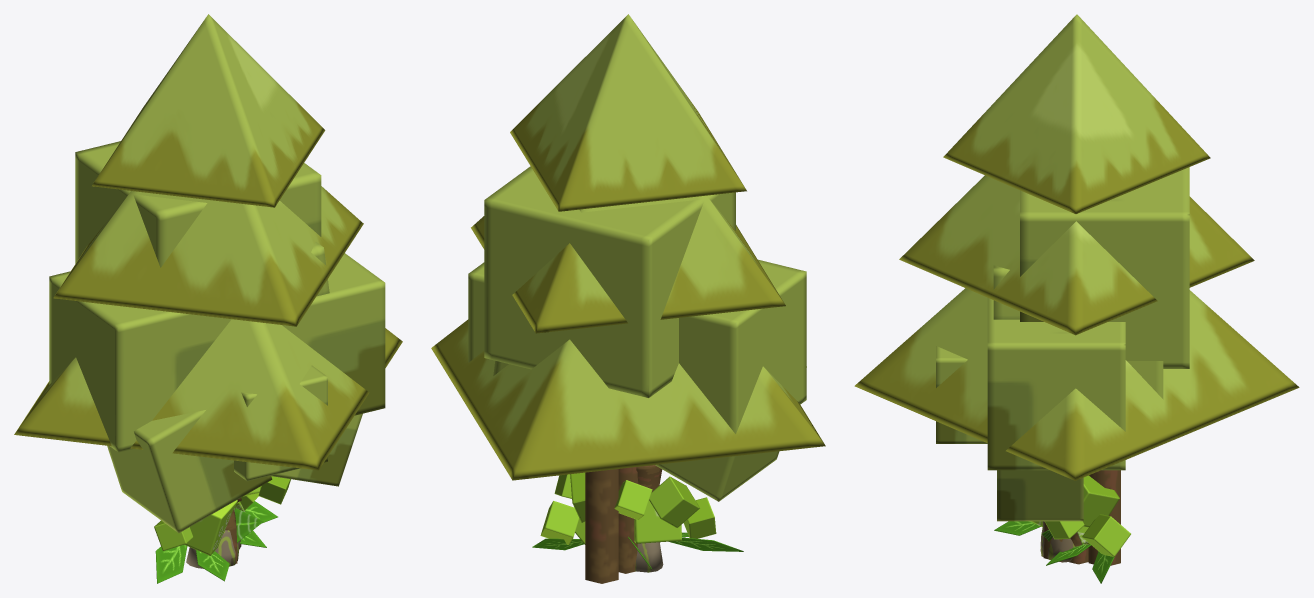
The model's file is wood_square_1.fbx.
The picture shows the model from 3 angles, left to right: view 1: azimuth 30°, elevation 25°; view 2: azimuth 150°, elevation 25°; view 3: azimuth 270°, elevation 25°; orthographic projection. The views are drawn at different scales.
Parts seen in each view (by area): view 1: polySurface7, polySurface2, polySurface1, kusa, rock; view 2: polySurface7, polySurface2, kusa, polySurface1, rock, wood_2; view 3: polySurface7, polySurface2, polySurface1, kusa.
Part boxes in pixels (x1,y1,x2,y2): polySurface7: (14, 14, 402, 470); polySurface2: (49, 141, 385, 481); polySurface1: (107, 242, 362, 533); kusa: (154, 476, 290, 583); rock: (186, 530, 241, 568); polySurface7: (431, 14, 825, 573); polySurface2: (468, 166, 806, 583); kusa: (532, 472, 743, 569); polySurface1: (493, 361, 806, 501); rock: (635, 542, 663, 572); wood_2: (636, 465, 662, 491); polySurface7: (854, 14, 1299, 480); polySurface2: (936, 167, 1189, 565); polySurface1: (993, 265, 1163, 564); kusa: (994, 475, 1130, 583).
Bounding box in the file's own units: 31.42 × 41.98 × 31.42.
